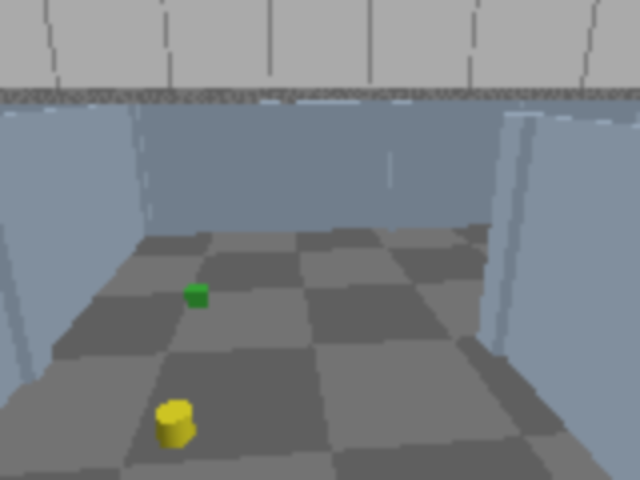puck: (155, 402, 194, 446), (185, 283, 209, 308)
